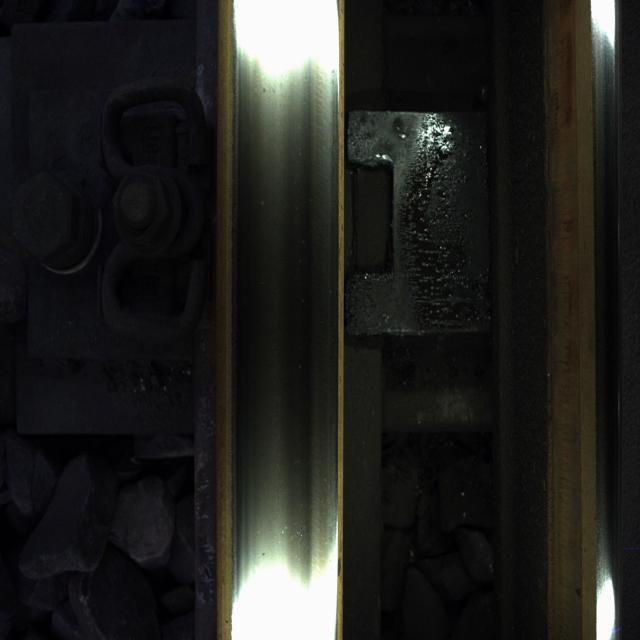break: (238, 50, 332, 609)
